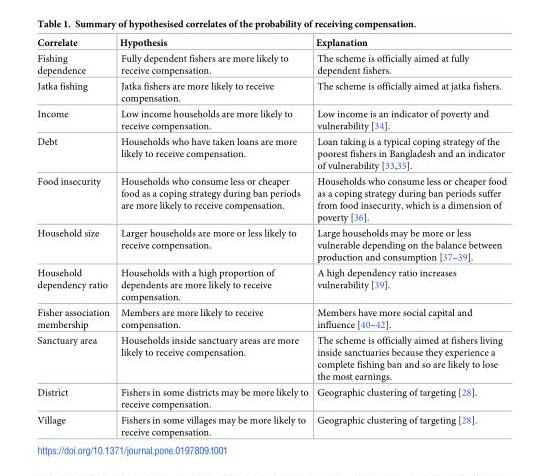table: (36, 37, 506, 436)
table column: (113, 37, 311, 436), (311, 37, 506, 436), (36, 37, 113, 436)
table column header: (36, 37, 506, 50)
table row: (36, 173, 506, 225), (36, 332, 506, 384), (36, 133, 506, 173), (36, 264, 506, 304), (36, 225, 506, 264), (36, 50, 506, 78), (36, 105, 506, 133), (36, 304, 506, 332), (36, 78, 506, 105), (36, 384, 506, 411), (36, 411, 506, 436), (36, 37, 506, 50)
